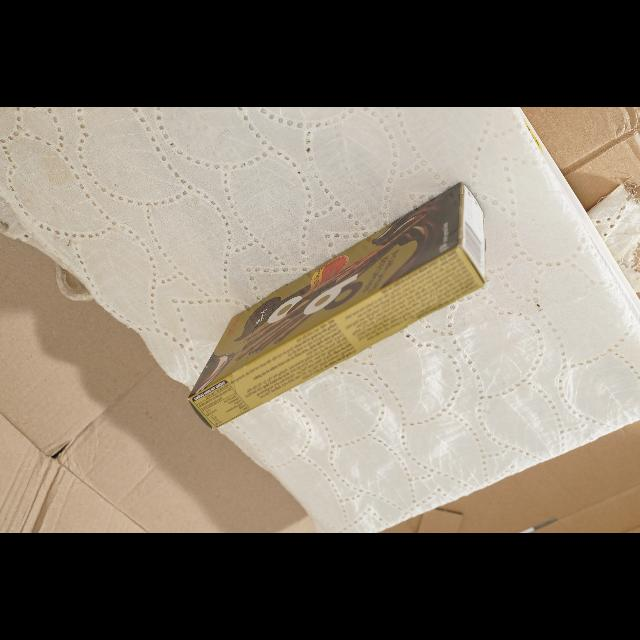banh_toppo_socola: (189, 183, 485, 429)
